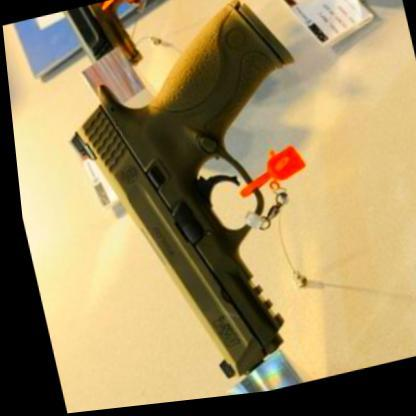pistol: (40, 0, 340, 405)
